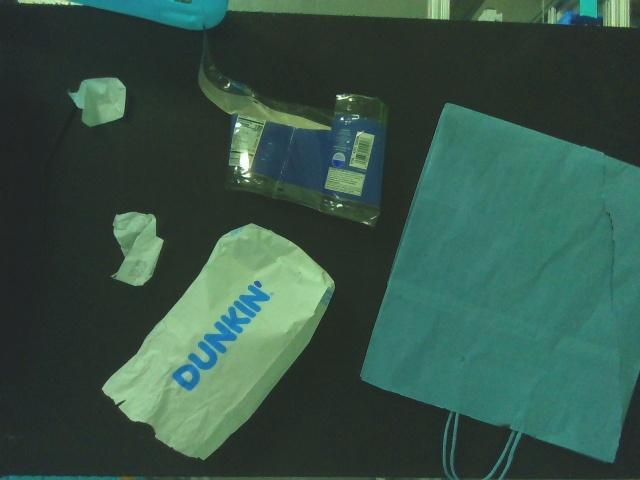paper: (357, 102, 640, 480), (100, 221, 336, 460), (112, 211, 166, 290), (62, 75, 130, 129)
plastic: (196, 22, 387, 232)
